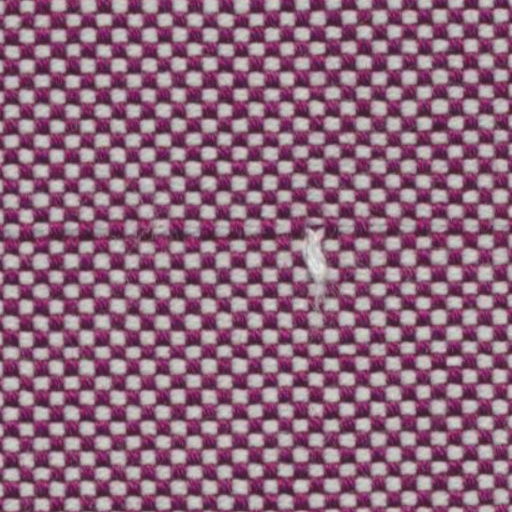DuanSha: (288, 218, 346, 302)
